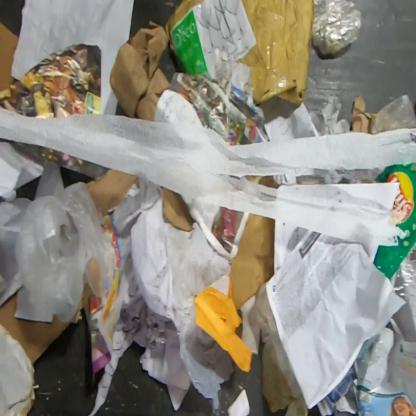cardboard: (164, 0, 314, 108), (109, 19, 173, 122), (0, 294, 72, 364), (229, 212, 275, 309), (0, 324, 41, 415), (86, 169, 140, 218), (0, 21, 21, 101), (162, 187, 197, 232), (350, 95, 378, 135), (259, 175, 278, 190)
soft_plastic: (0, 158, 119, 324), (373, 161, 415, 281), (310, 0, 362, 55), (371, 93, 416, 135), (391, 251, 415, 304)
